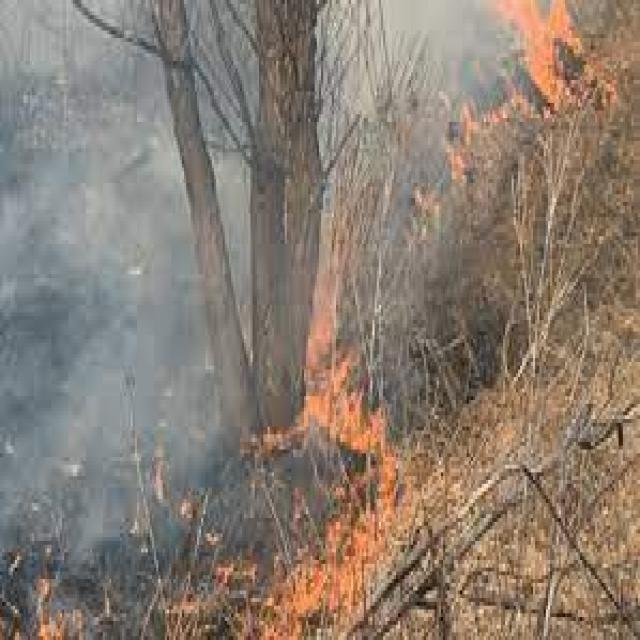Fire: (306, 216, 392, 468), (255, 489, 398, 640), (491, 0, 592, 113), (424, 85, 492, 186), (22, 569, 91, 640)
Smoke: (0, 160, 179, 638), (0, 304, 209, 530), (15, 332, 164, 506)
